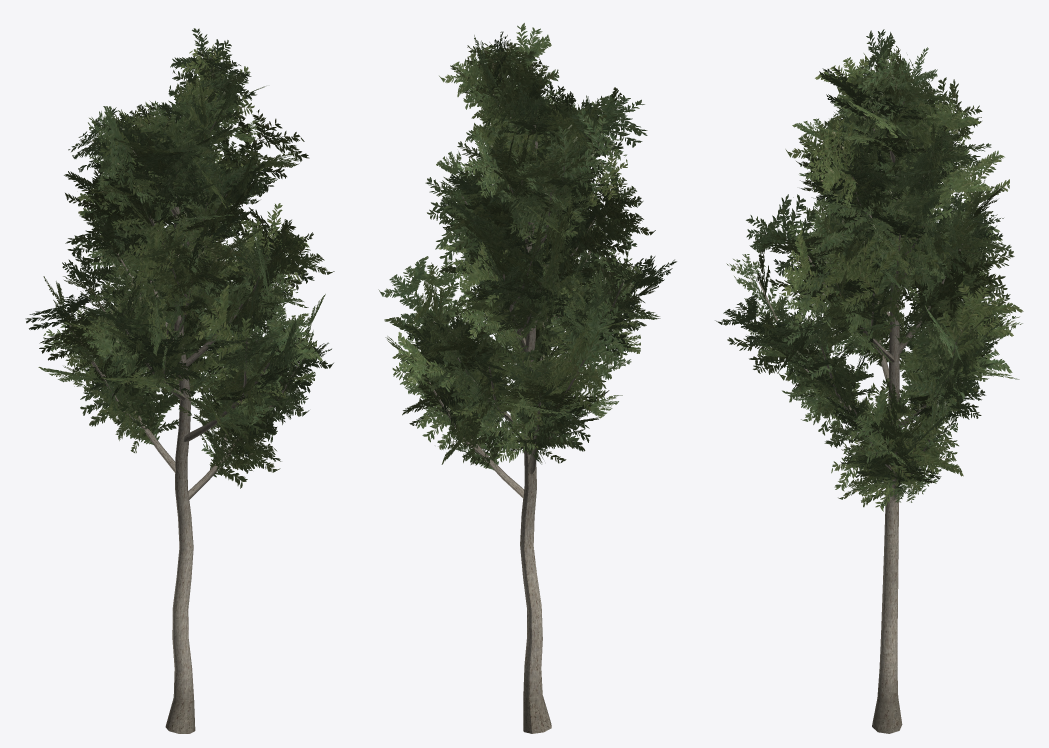
The model's file is tram.glb.
The picture shows the model from 3 angles, left to right: view 1: azimuth 30°, elevation 25°; view 2: azimuth 150°, elevation 25°; view 3: azimuth 270°, elevation 25°; orthographic projection. The views are drawn at different scales.
Parts seen in each view (by area): view 1: tram_leaves, tram_wood; view 2: tram_leaves, tram_wood; view 3: tram_leaves, tram_wood.
Part boxes in pixels (x1,y1,x2,y2): tram_leaves: (25,28,334,488); tram_wood: (69,121,303,733); tram_leaves: (378,23,676,470); tram_wood: (425,93,623,733); tram_leaves: (715,29,1023,511); tram_wood: (758,101,974,733).
Size of the model in its own units: 5.09 by 11.69 by 4.8.
Materials: 2 (2 with a texture image).
